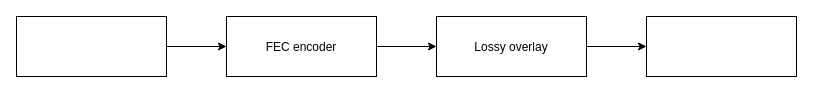
This 813x93 diagram has some shape labels left out. The shapes that lost their labels are listed below. From the top down, each one's centre as x and y in pixels, then its label:
At (91,46): "Application flow".
At (721,46): "FEC decoder".
